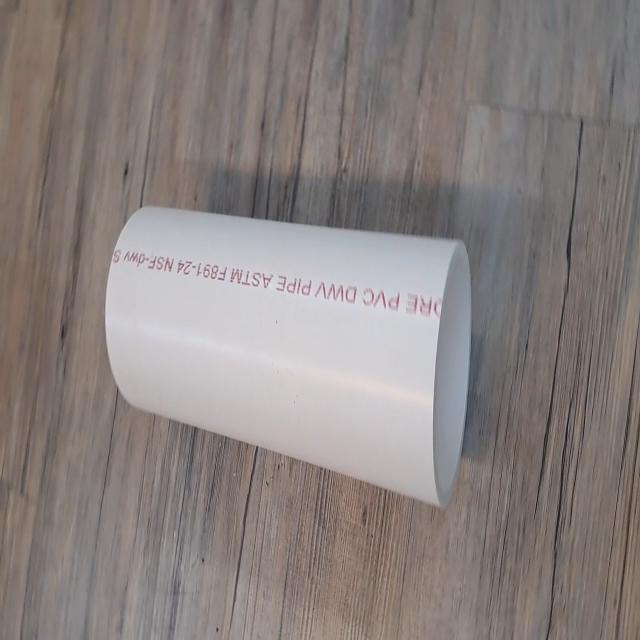CORAL: (100, 194, 478, 510)
